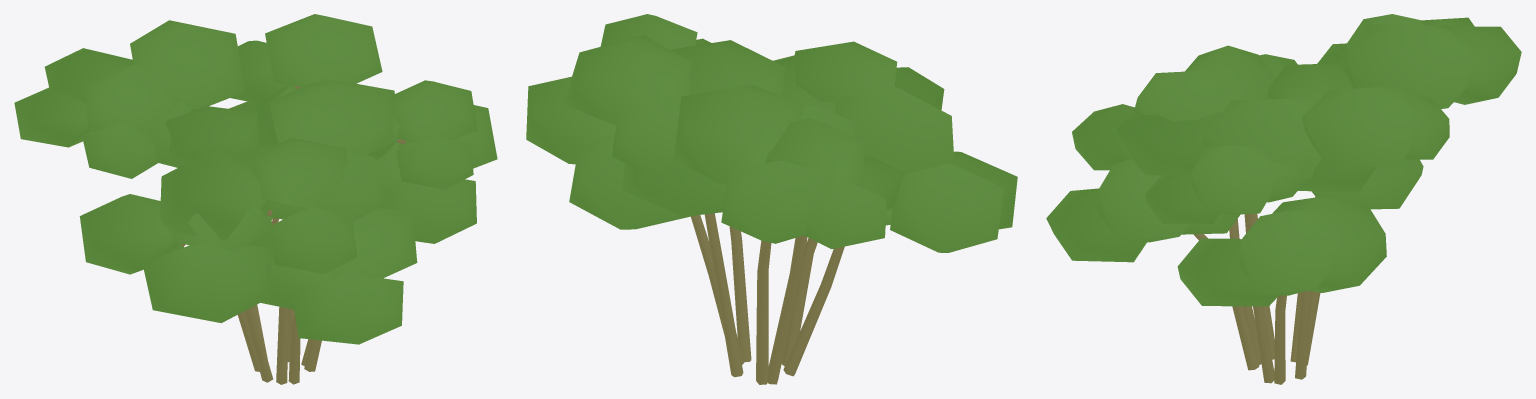
The model's file is Blender_VineMaple_1.glb.
3 renders of one model, left to right at view 1: azimuth 30°, elevation 25°; view 2: azimuth 150°, elevation 25°; view 3: azimuth 270°, elevation 25°, orthographic. The views are drawn at different scales.
Parts seen in each view (by area): view 1: Blender_VineMaple_1; view 2: Blender_VineMaple_1; view 3: Blender_VineMaple_1.
Boxes of the visible parts, box(x1,y1,x2,y2) form: Blender_VineMaple_1: box(14, 14, 497, 384); Blender_VineMaple_1: box(526, 14, 1017, 384); Blender_VineMaple_1: box(1046, 14, 1521, 384).
Bounding box in the file's own units: 5.76 × 4.16 × 5.46.
